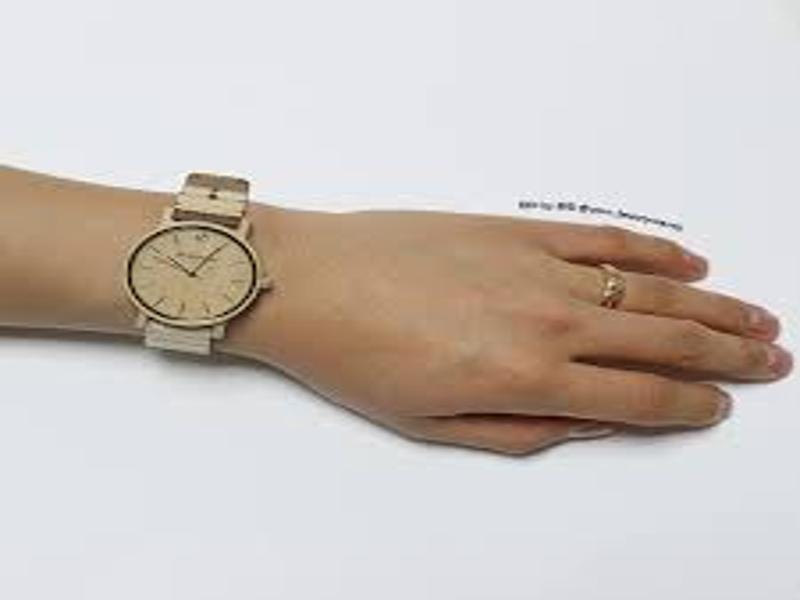watch: (122, 168, 279, 359)
